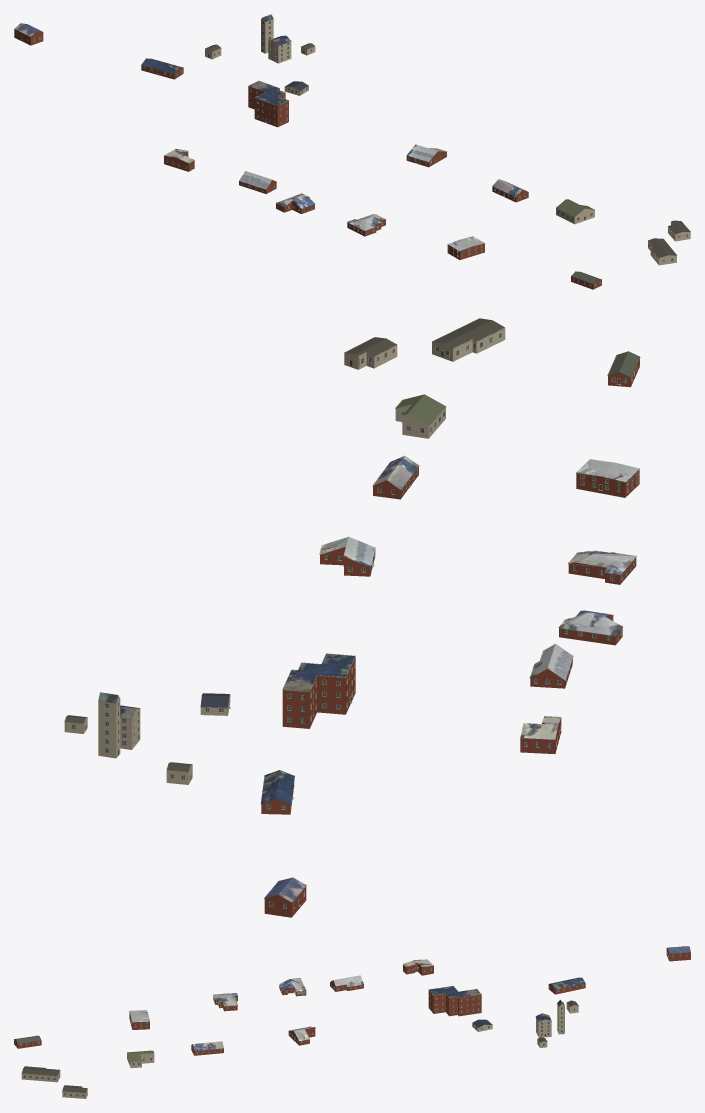
3 views of the same model, one above another, from view 1: azimuth 30°, elevation 25°; view 2: azimuth 150°, elevation 25°; view 3: azimuth 270°, elevation 25° (orthographic). The views are drawn at different scales.
Visible parts, largest first — view 1: -1_11_608377690_1, -1_11_608378764_4, -1_11_608378767_7; view 2: -1_11_608377690_1, -1_11_608378764_4, -1_11_608378767_7; view 3: -1_11_608377690_1, -1_11_608378764_4, -1_11_608378767_7.
Part boxes in pixels (bbox=[...]): -1_11_608377690_1: bbox=[14, 14, 690, 289]; -1_11_608378764_4: bbox=[205, 17, 690, 265]; -1_11_608378767_7: bbox=[205, 43, 690, 283]; -1_11_608377690_1: bbox=[64, 318, 640, 917]; -1_11_608378764_4: bbox=[64, 327, 505, 784]; -1_11_608378767_7: bbox=[64, 318, 639, 771]; -1_11_608377690_1: bbox=[14, 946, 690, 1096]; -1_11_608378764_4: bbox=[21, 1003, 578, 1098]; -1_11_608378767_7: bbox=[15, 1000, 578, 1092].
Size of the model in its own units: 230 by 33.19 by 488.
12 materials, 1 textured.
